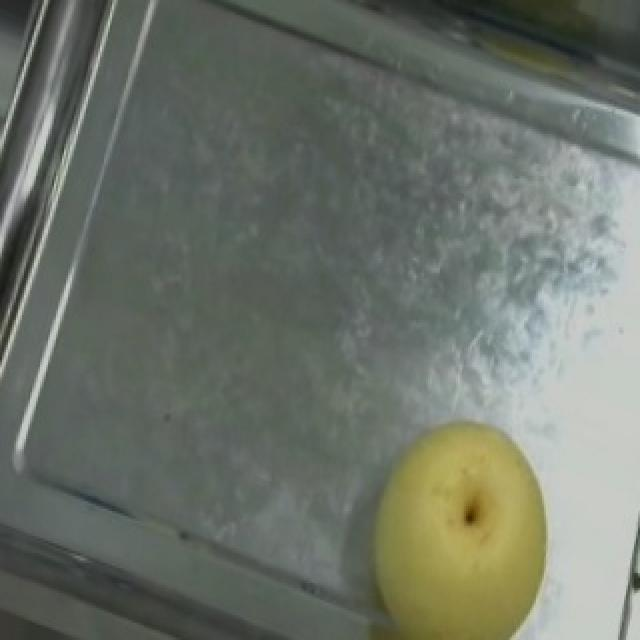Fruit: (318, 389, 578, 640)
